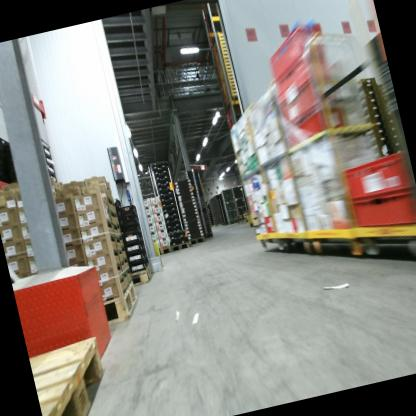pallet: (29, 335, 117, 416), (98, 280, 144, 328), (128, 264, 156, 288), (169, 239, 191, 255), (153, 245, 173, 257), (188, 235, 207, 247), (203, 231, 214, 241), (227, 219, 238, 226), (242, 209, 251, 215), (237, 219, 246, 225), (236, 217, 245, 223), (242, 212, 251, 217), (236, 214, 245, 219), (243, 216, 249, 220), (222, 222, 228, 226), (217, 222, 221, 227), (246, 219, 250, 223), (215, 224, 219, 228), (220, 222, 223, 227)
